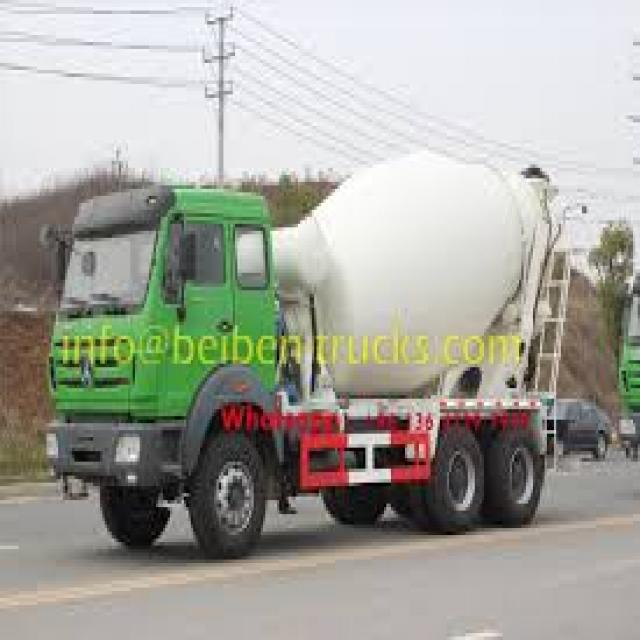Mixer Truck: (35, 141, 592, 557)
